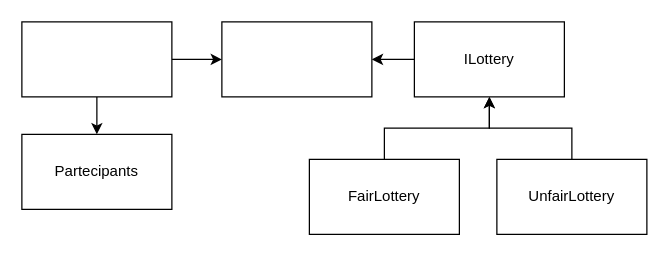
Some shapes in this 669 by 256 pixel diagram are drawn without their labels. Here are the shapes that lost their labels. From the top down, the centre of each, then its label:
At (96,59): "Store (Shop)".
At (296,59): "Tickets".
